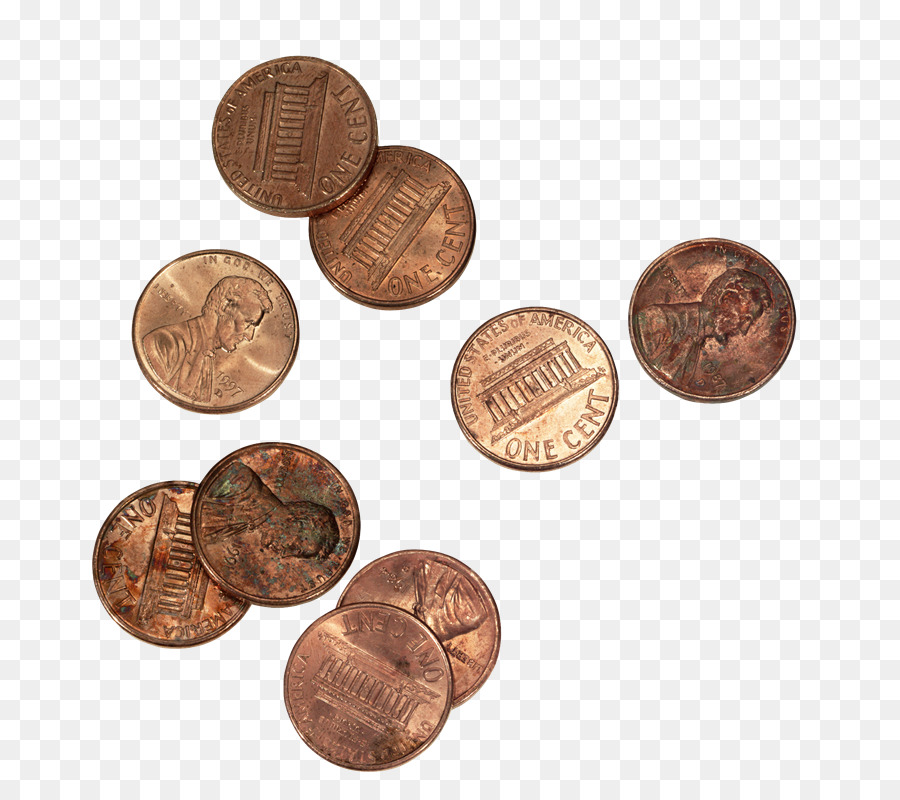coin: (302, 141, 480, 310), (281, 603, 453, 771), (449, 305, 618, 473), (190, 441, 361, 607), (628, 238, 797, 405), (130, 248, 300, 414), (91, 478, 251, 648), (341, 546, 503, 711), (213, 56, 379, 216)
